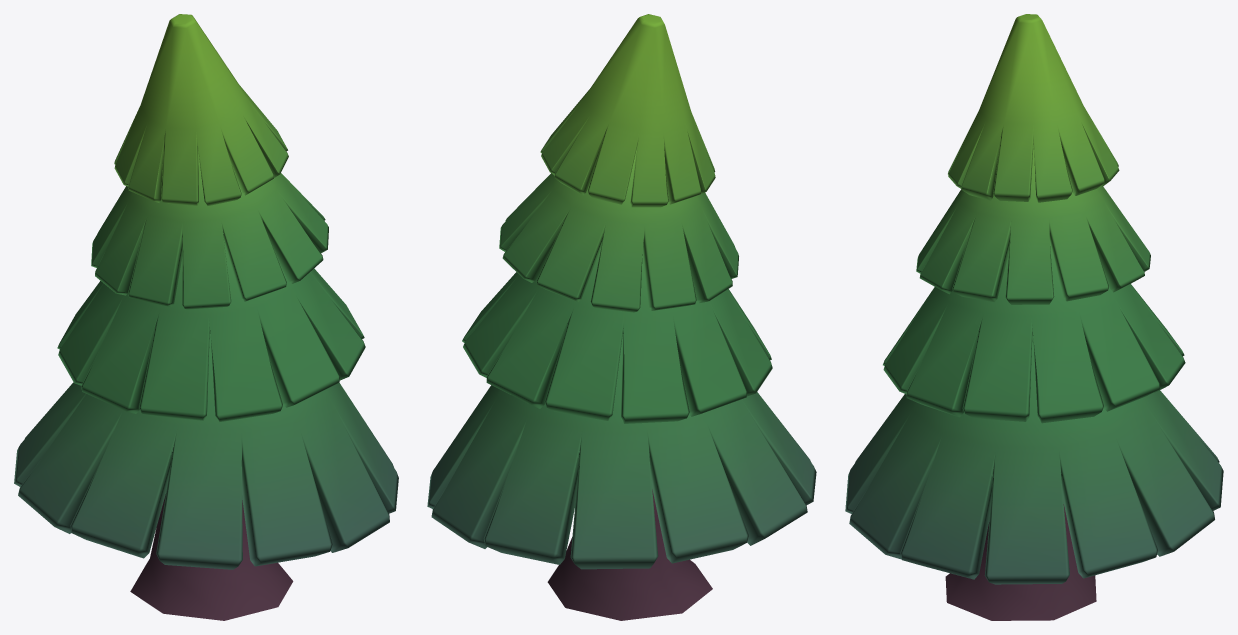
File: tree_pack_10.glb
The picture shows the model from 3 angles, left to right: view 1: azimuth 30°, elevation 25°; view 2: azimuth 150°, elevation 25°; view 3: azimuth 270°, elevation 25°; orthographic projection. The views are drawn at different scales.
Parts seen in each view (by area): view 1: Tree.010; view 2: Tree.010; view 3: Tree.010.
Part boxes in pixels (bbox=[...]): Tree.010: bbox=[14, 14, 398, 620]; Tree.010: bbox=[427, 14, 816, 620]; Tree.010: bbox=[845, 14, 1223, 620].
Bounding box in the file's own units: 3.21 × 5.22 × 3.19.
Materials: 1 (1 with a texture image).
